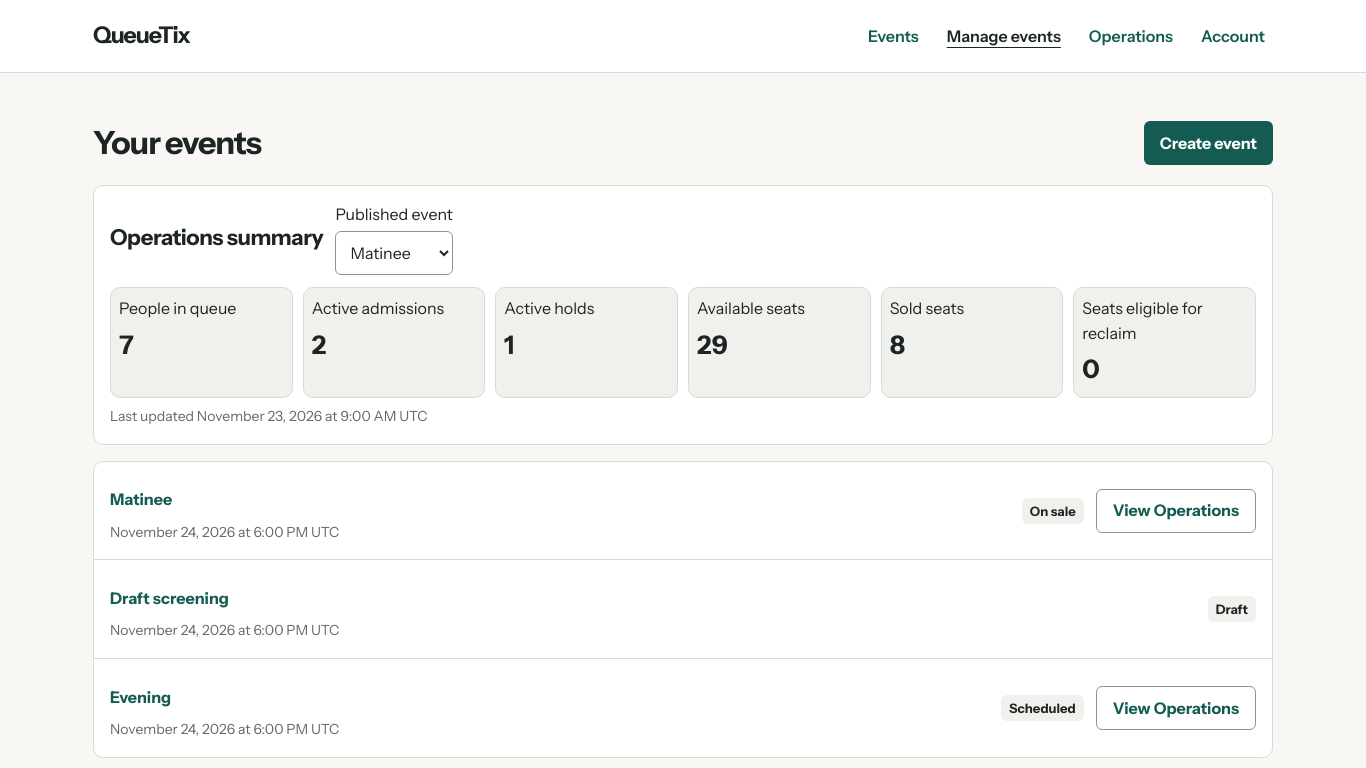
Test: the organizer overview fetches only the selected published snapshot and preserves zero and unavailable counts
Expected: the text "29" is shown, [697,329,728,360]
Expected: the text "7" is shown, [119,329,134,360]
Select "Evening" in the dropdown labelled "Published event" at coordinates (394, 253), box [335,231,453,275]
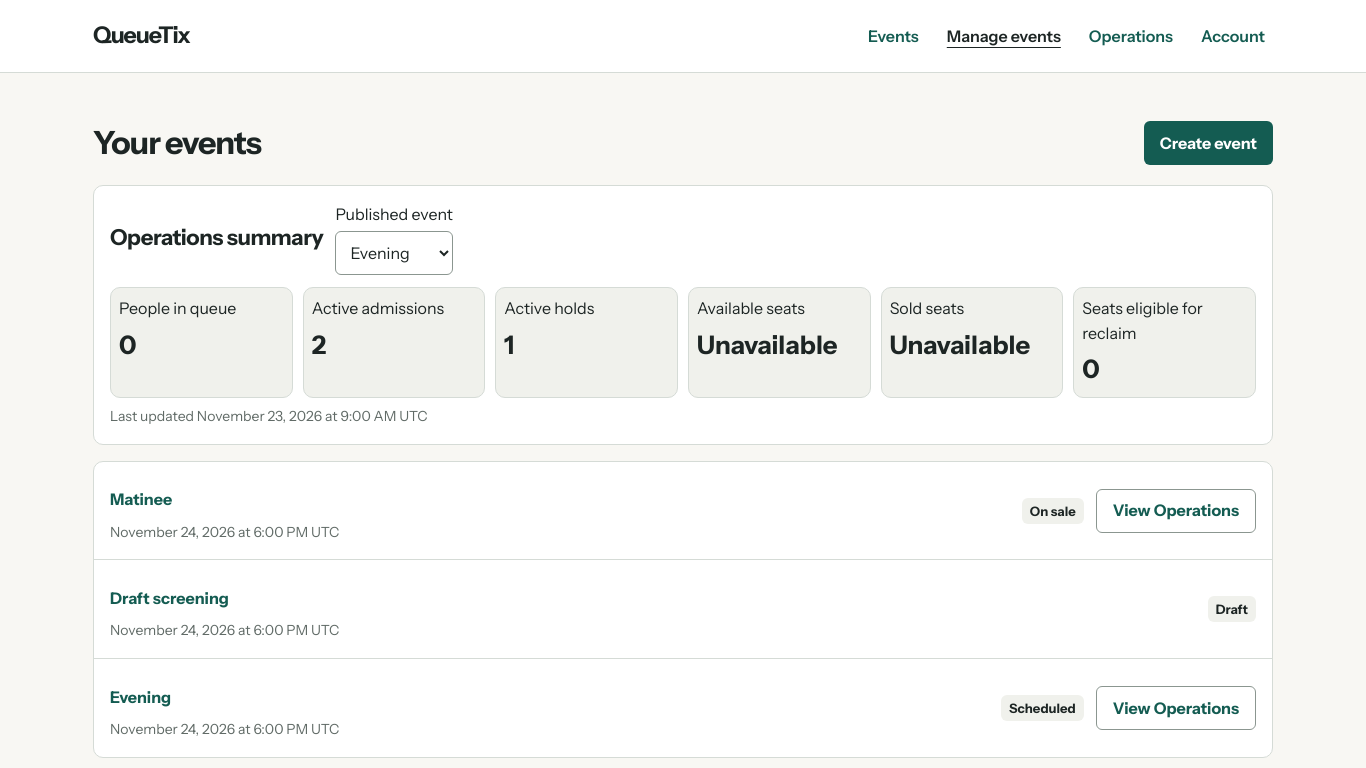
Expected: the text "Unavailable" is shown 2 times, [697,325,862,364]; [890,325,1054,364]
Now the text "0" below "People in queue" is shown, box [119,329,136,360]
